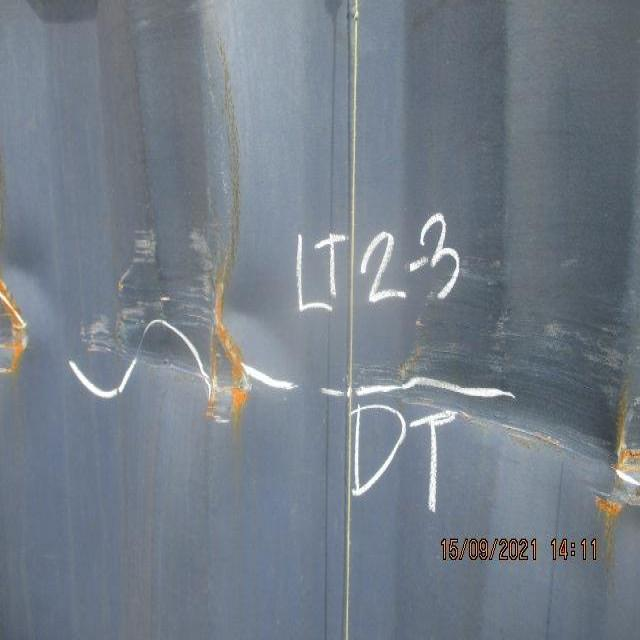Dent: (3, 85, 636, 555)
